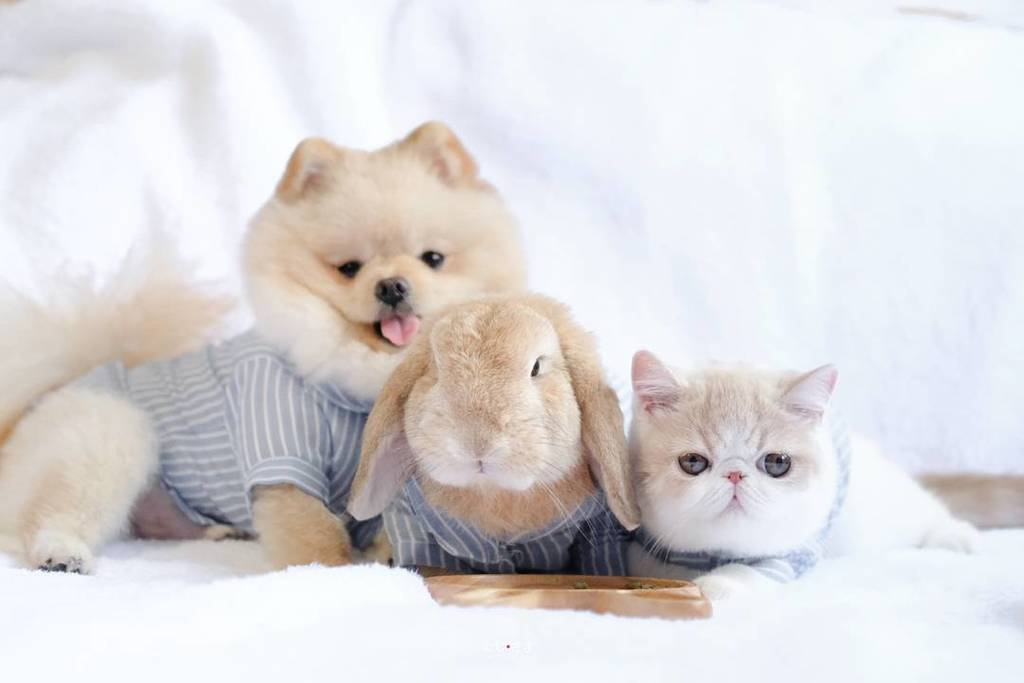cat: (618, 345, 867, 582)
dog: (175, 145, 508, 358)
rabbit: (347, 301, 624, 588)
